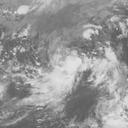cyclone: (27, 50, 111, 111)
